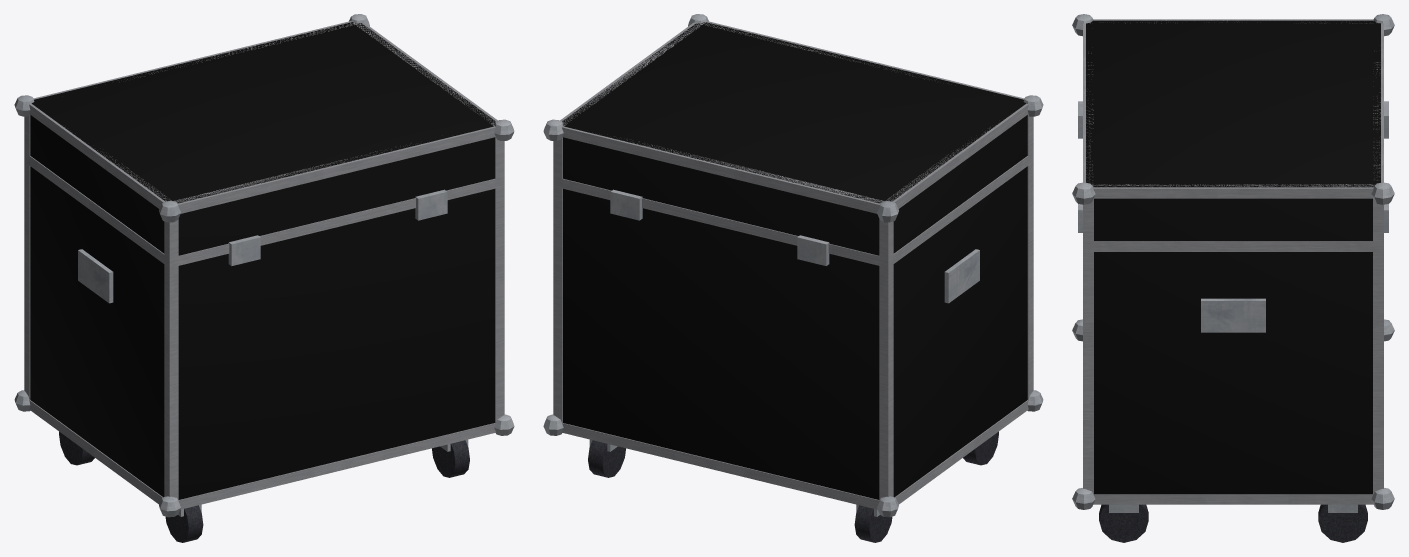
Rendered from road_case_medium.gltf.
3 views of the same model, side by side, from view 1: azimuth 30°, elevation 25°; view 2: azimuth 150°, elevation 25°; view 3: azimuth 270°, elevation 25° (orthographic). The views are drawn at different scales.
Parts seen in each view (by area): view 1: road_case_medium; view 2: road_case_medium; view 3: road_case_medium.
Part boxes in pixels (box(x1,y1,x2,y2)): road_case_medium: box(14, 14, 514, 542); road_case_medium: box(543, 14, 1043, 542); road_case_medium: box(1072, 14, 1394, 542).
Bounding box in the file's own units: 0.848 × 0.827 × 0.648.
Materials: 4 (4 with a texture image).
